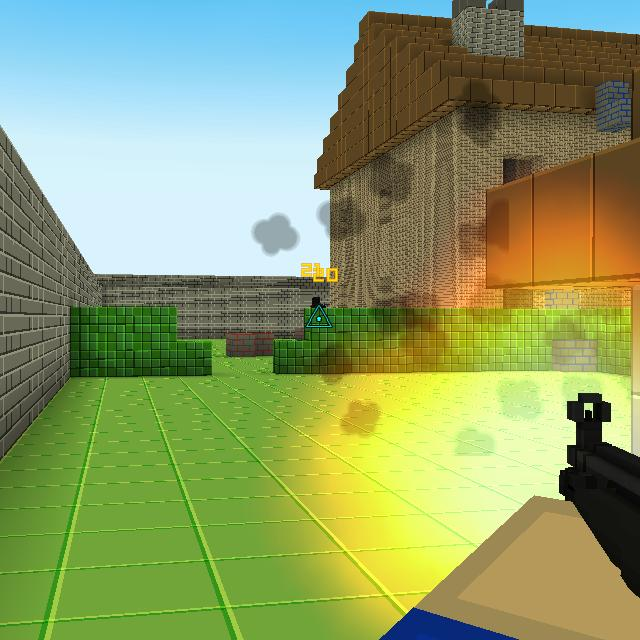enemy: (310, 296, 326, 308)
